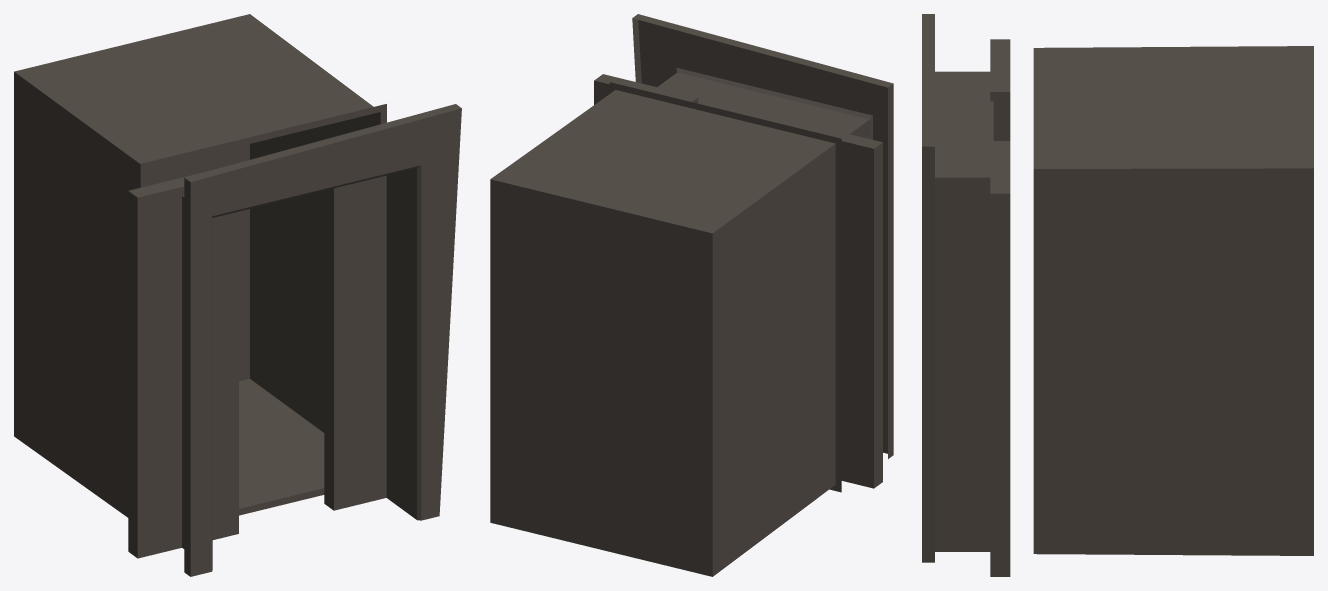
The model's file is SM_Elevator_003.fbx.
3 renders of one model, left to right at view 1: azimuth 30°, elevation 25°; view 2: azimuth 150°, elevation 25°; view 3: azimuth 270°, elevation 25°, orthographic. The views are drawn at different scales.
Visible parts, largest first — view 1: SM_Elevator_003, SM_Elevator_R_003, SM_Elevator_L_003; view 2: SM_Elevator_003, SM_Elevator_R_003, SM_Elevator_L_003; view 3: SM_Elevator_003, SM_Elevator_L_003, SM_Elevator_R_003.
Boxes of the visible parts, x1=… form: SM_Elevator_003: x1=14, y1=14, x2=461, y2=576; SM_Elevator_R_003: x1=128, y1=173, x2=238, y2=558; SM_Elevator_L_003: x1=324, y1=175, x2=386, y2=510; SM_Elevator_003: x1=490, y1=14, x2=893, y2=576; SM_Elevator_R_003: x1=781, y1=119, x2=882, y2=488; SM_Elevator_L_003: x1=594, y1=74, x2=698, y2=104; SM_Elevator_003: x1=922, y1=14, x2=1313, y2=562; SM_Elevator_L_003: x1=990, y1=141, x2=1010, y2=576; SM_Elevator_R_003: x1=990, y1=39, x2=1010, y2=140.
Bounding box in the file's own units: 190 × 247 × 204.
